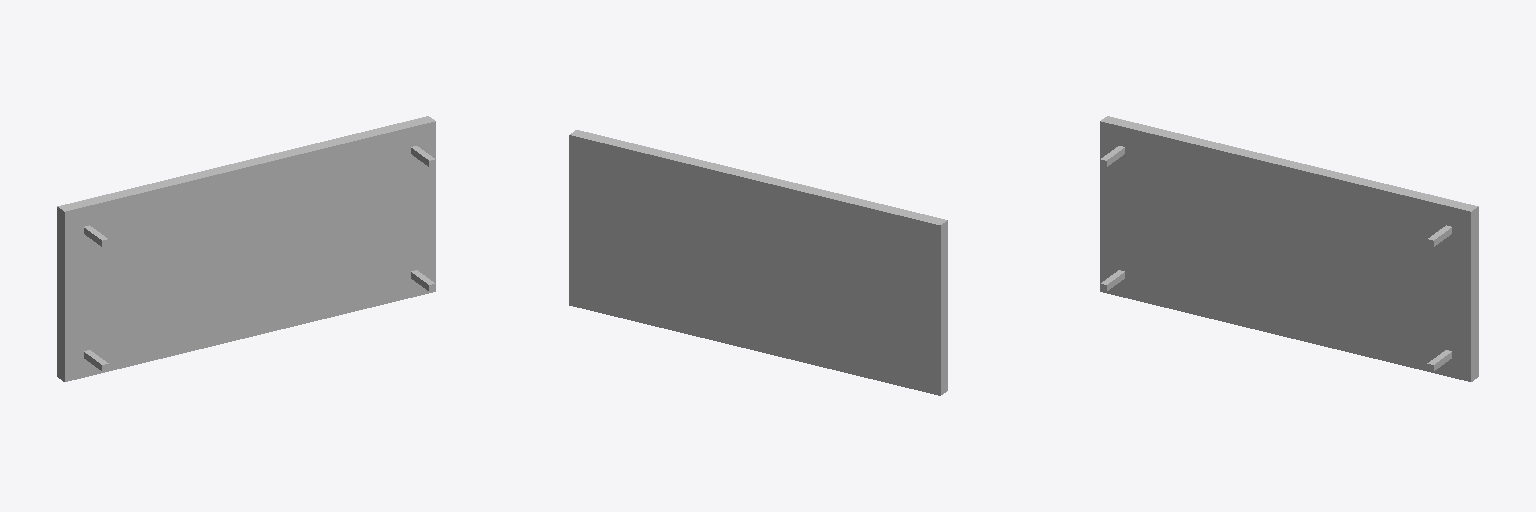
The model's file is random_table38.obj.
3 views of the same model, side by side, from view 1: azimuth 30°, elevation 25°; view 2: azimuth 150°, elevation 25°; view 3: azimuth 330°, elevation 25° (orthographic).
Parts seen in each view (by area): view 1: Table_Cube.385; view 2: Table_Cube.385; view 3: Table_Cube.385.
Part boxes in pixels (x1,y1,x2,y2): Table_Cube.385: (57, 116, 435, 381); Table_Cube.385: (569, 130, 947, 395); Table_Cube.385: (1100, 116, 1478, 381).
Size of the model in its own units: 12.57 by 5.52 by 1.53.